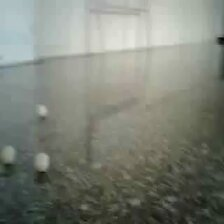tennis: (98, 177, 136, 224), (8, 102, 34, 136), (54, 66, 68, 87)
